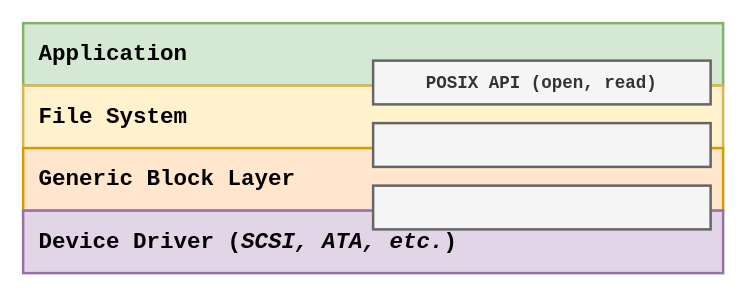
Some shapes in this 745 by 295 pixel diagram are drawn without their labels. The centre of each missing label's shape, as x and y in pixels:
Generic Block Interface: the point at 541,144
Specific Block Interface: the point at 541,207
